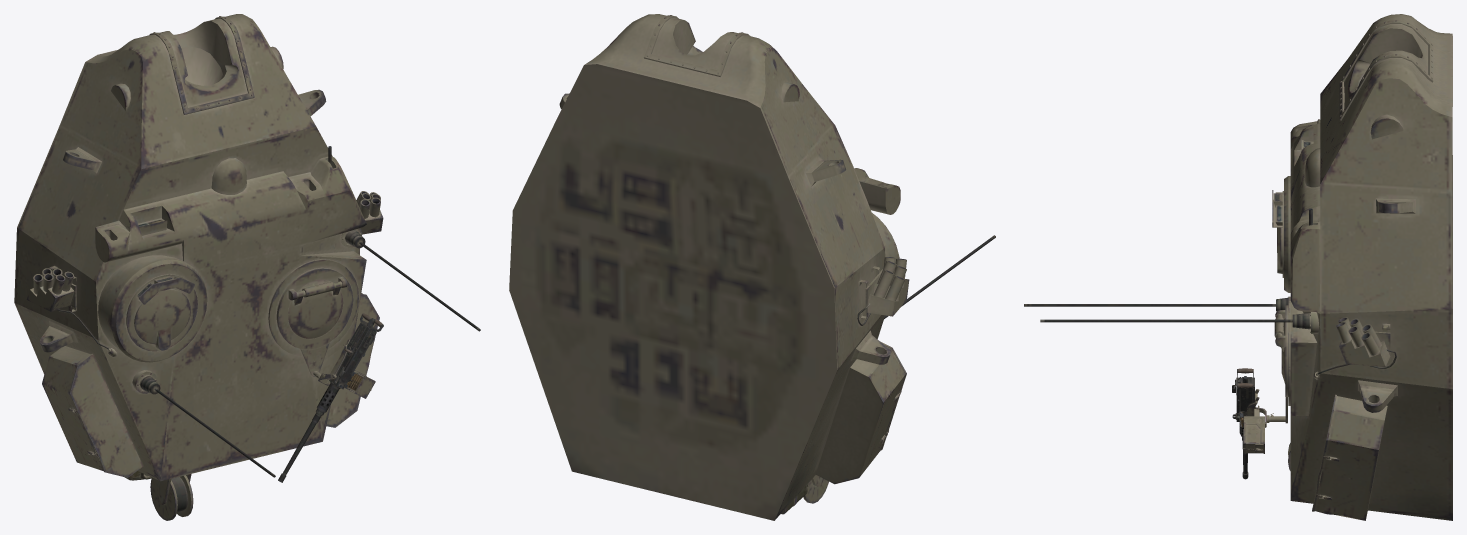
File: Turret_01.glb
The picture shows the model from 3 angles, left to right: view 1: azimuth 30°, elevation 25°; view 2: azimuth 150°, elevation 25°; view 3: azimuth 270°, elevation 25°; orthographic projection. The views are drawn at different scales.
Parts seen in each view (by area): view 1: set_0_group_0; view 2: set_0_group_0; view 3: set_0_group_0.
Part boxes in pixels (x1,y1,x2,y2): set_0_group_0: (14,14,480,520); set_0_group_0: (509,14,995,520); set_0_group_0: (1024,14,1452,520).
Bounding box in the file's own units: 3.48 × 4.32 × 3.54.
1 material, 1 textured.
